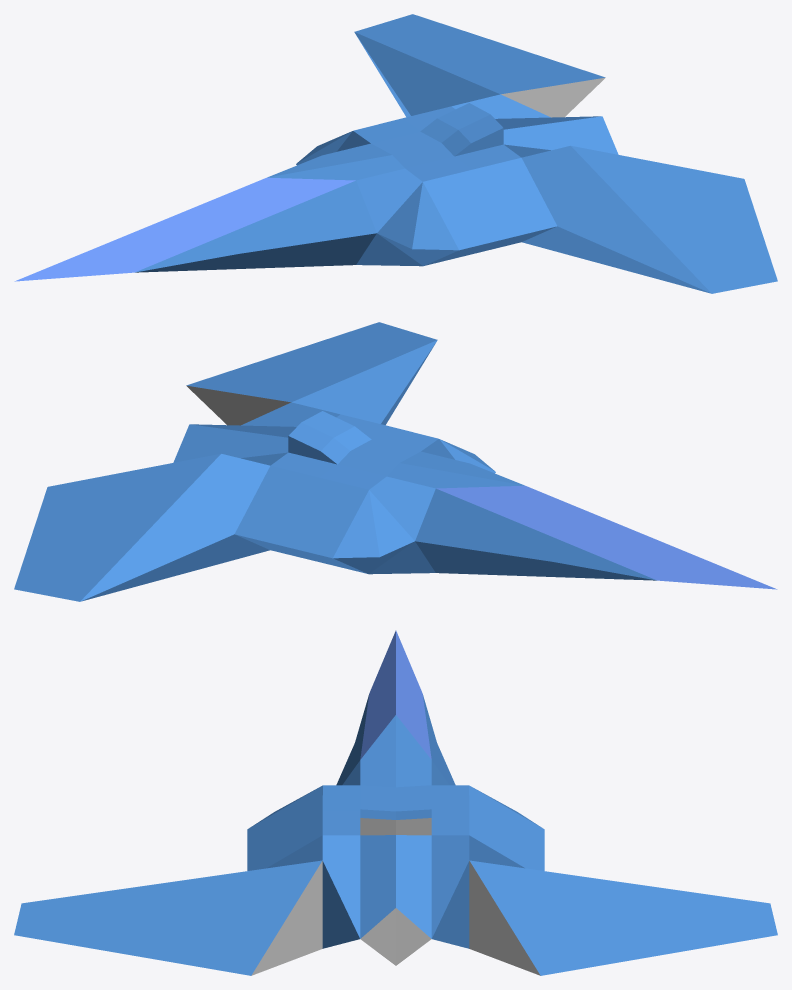
The model's file is spacecraft1team1.fbx.
3 views of the same model, one above another, from view 1: azimuth 30°, elevation 25°; view 2: azimuth 150°, elevation 25°; view 3: azimuth 270°, elevation 25° (orthographic). The views are drawn at different scales.
Visible parts, largest first — view 1: Cube.002; view 2: Cube.002; view 3: Cube.002.
Part boxes in pixels (x1,y1,x2,y2): Cube.002: (14, 14, 777, 293); Cube.002: (14, 322, 777, 601); Cube.002: (14, 630, 777, 975).
Size of the model in its own units: 194 by 28.43 by 186.
